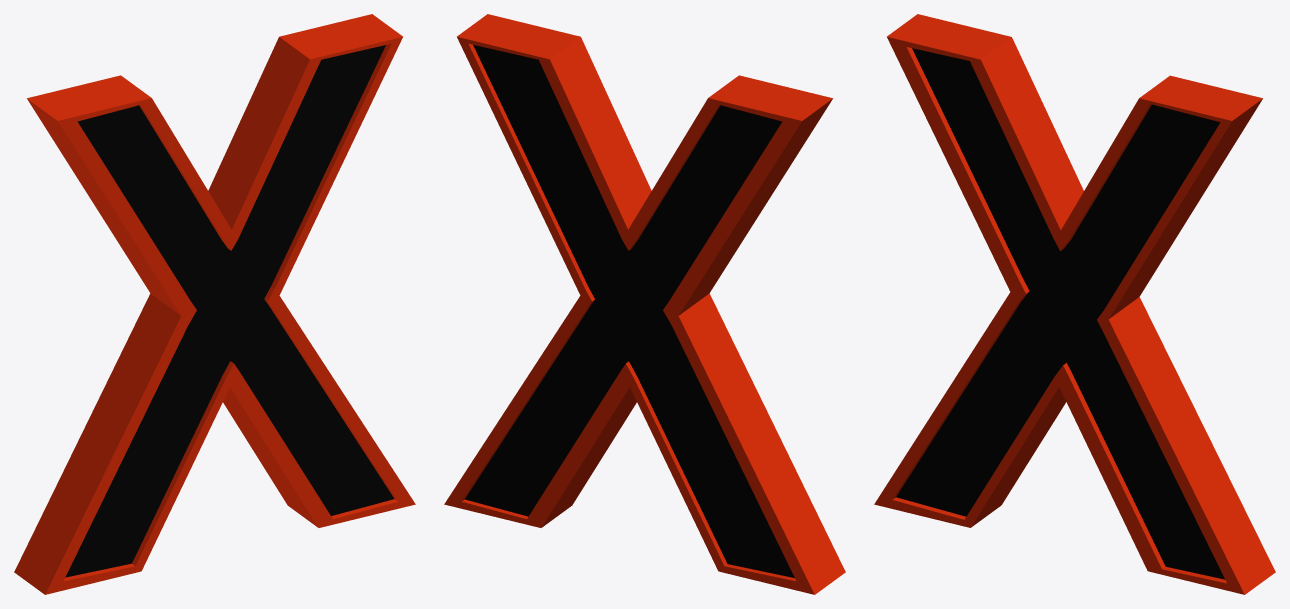
The picture shows the model from 3 angles, left to right: view 1: azimuth 30°, elevation 25°; view 2: azimuth 150°, elevation 25°; view 3: azimuth 330°, elevation 25°; orthographic projection.
Visible parts, largest first — view 1: X.001; view 2: X.001; view 3: X.001.
Boxes of the visible parts, x1,y1,x2,y2 form: X.001: [14, 14, 415, 594]; X.001: [444, 14, 845, 594]; X.001: [874, 14, 1275, 594].
Bounding box in the file's own units: 0.4167 × 0.5057 × 0.0604.
